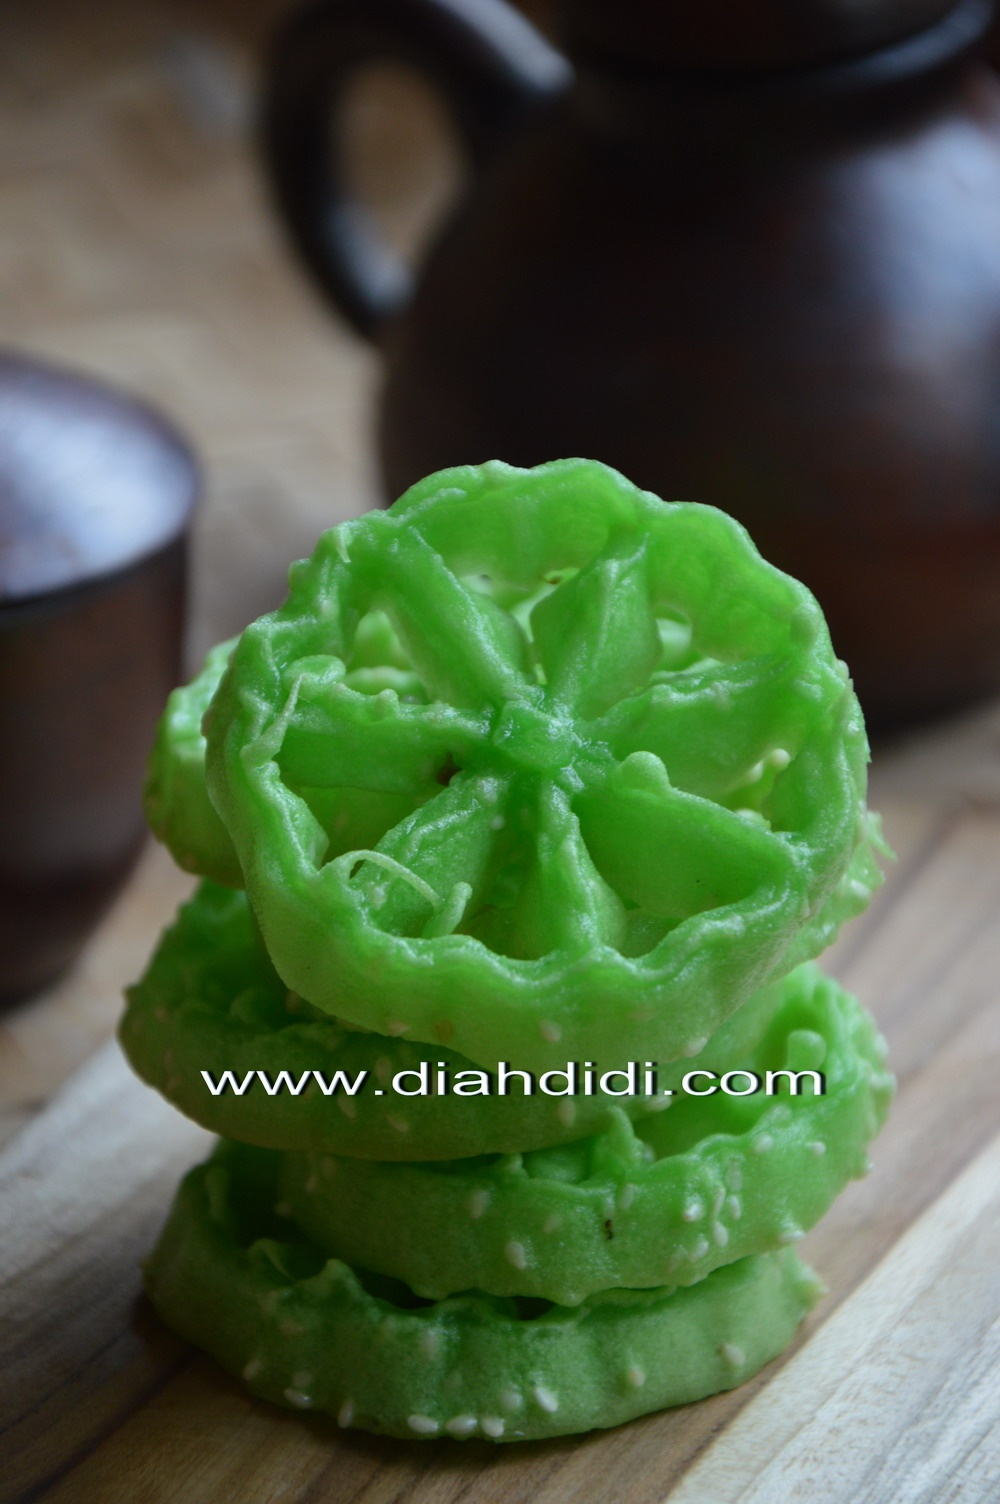kembang_goyang: (204, 485, 847, 1064)
